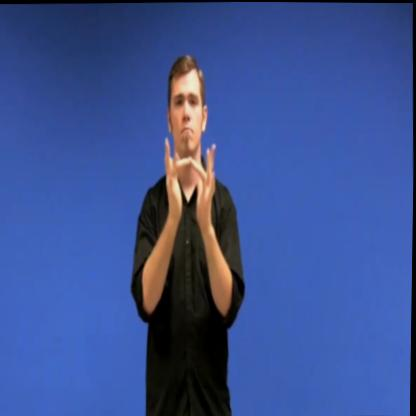Internet: (153, 125, 226, 240)
